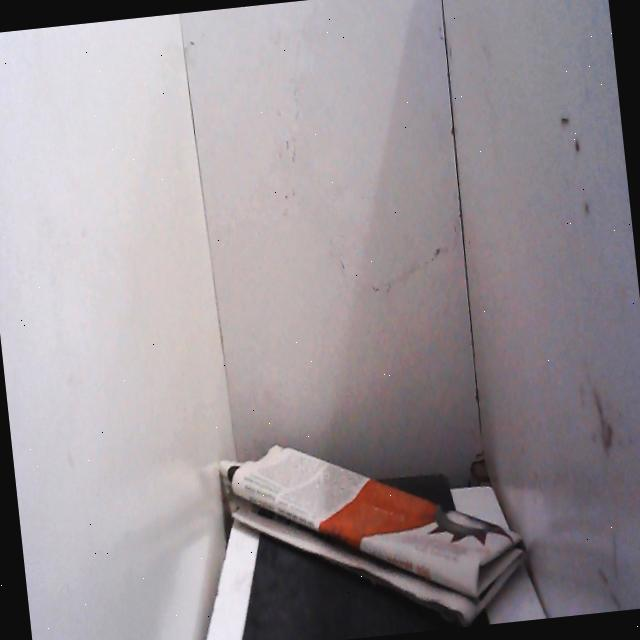papel: (212, 404, 537, 640)
